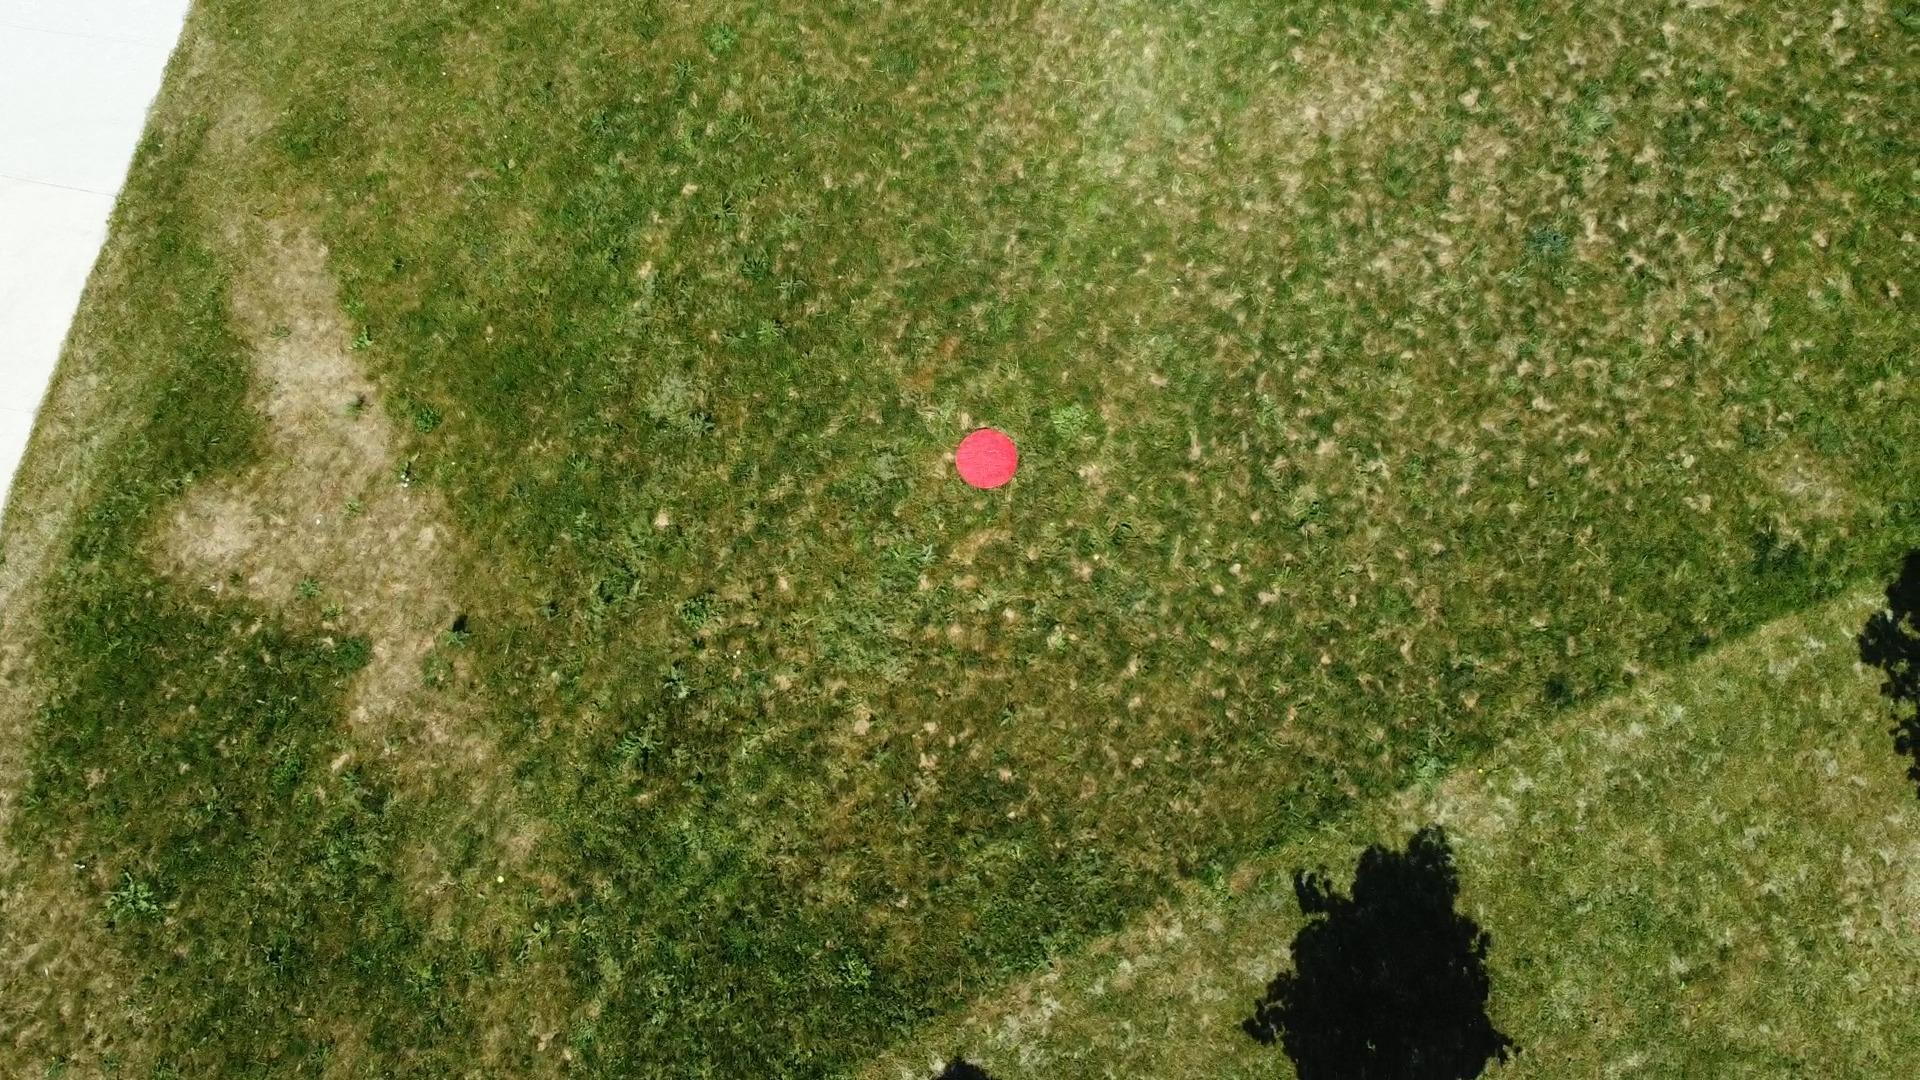Red: (953, 422, 1019, 493)
